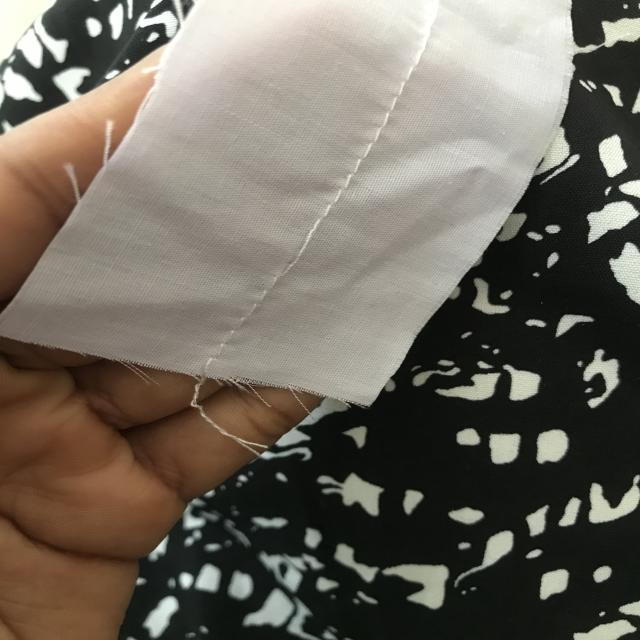skip: (250, 211, 347, 295)
